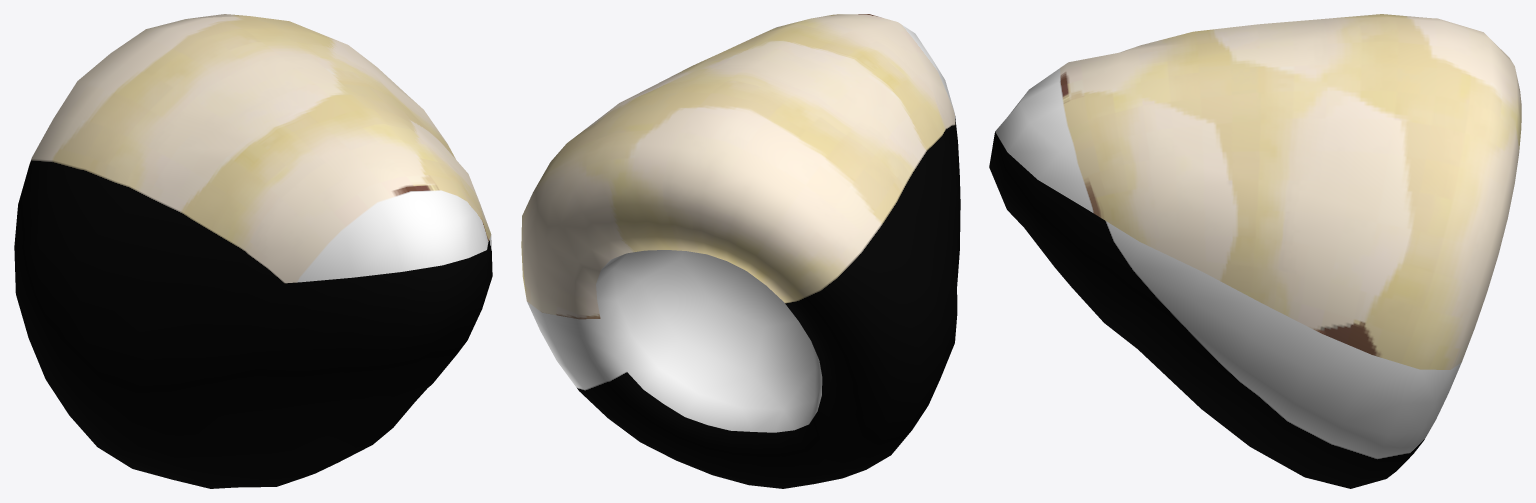
Rendered from ref_bfwowotou.fbx.
The picture shows the model from 3 angles, left to right: view 1: azimuth 30°, elevation 25°; view 2: azimuth 150°, elevation 25°; view 3: azimuth 270°, elevation 25°; orthographic projection. The views are drawn at different scales.
Visible parts, largest first — view 1: ref_bfwowotou; view 2: ref_bfwowotou; view 3: ref_bfwowotou.
Part boxes in pixels (box(x1,y1,x2,y2)): ref_bfwowotou: box(14, 14, 492, 488); ref_bfwowotou: box(521, 14, 960, 488); ref_bfwowotou: box(989, 14, 1521, 488).
Size of the model in its own units: 90.37 by 89.19 by 100.
